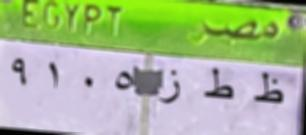0: (81, 70, 98, 95)
1: (41, 56, 65, 97)
5: (110, 66, 134, 98)
9: (7, 53, 30, 93)
Taa: (201, 62, 234, 109)
Thaa: (247, 68, 285, 108)
zay: (155, 65, 183, 111)
